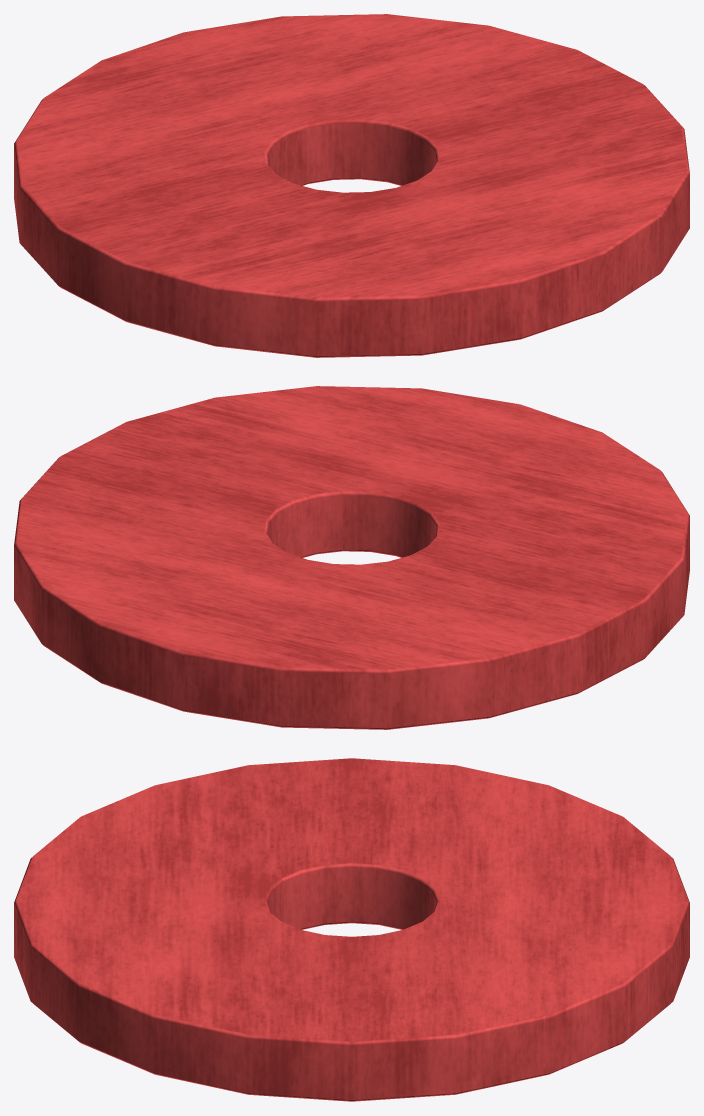
The model's file is stone2.fbx.
The picture shows the model from 3 angles, top to bottom: view 1: azimuth 30°, elevation 25°; view 2: azimuth 150°, elevation 25°; view 3: azimuth 270°, elevation 25°; orthographic projection.
Parts seen in each view (by area): view 1: stone; view 2: stone; view 3: stone.
Part boxes in pixels (<box>): stone: <box>14,14,689,357</box>; stone: <box>14,386,689,729</box>; stone: <box>14,758,689,1101</box>.
Size of the model in its own units: 1.32 by 0.1295 by 1.32.
